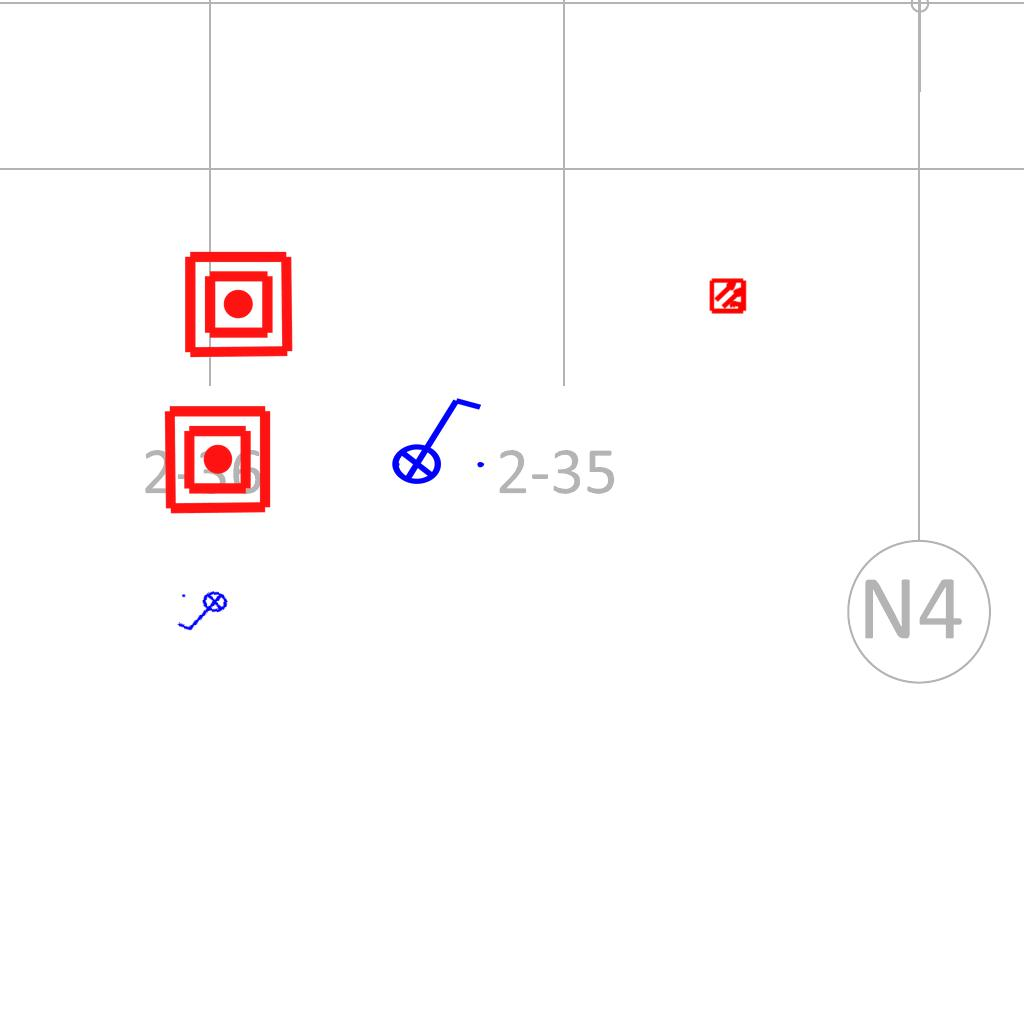Ausschalter_beleuchtet: (378, 390, 490, 486), (171, 584, 237, 642)
NAM-Nichtautomatischer_Melder: (161, 403, 274, 516), (182, 248, 295, 361)
OT_Multisensormelder_(Kombination_RMO_WMD): (701, 268, 757, 324)
